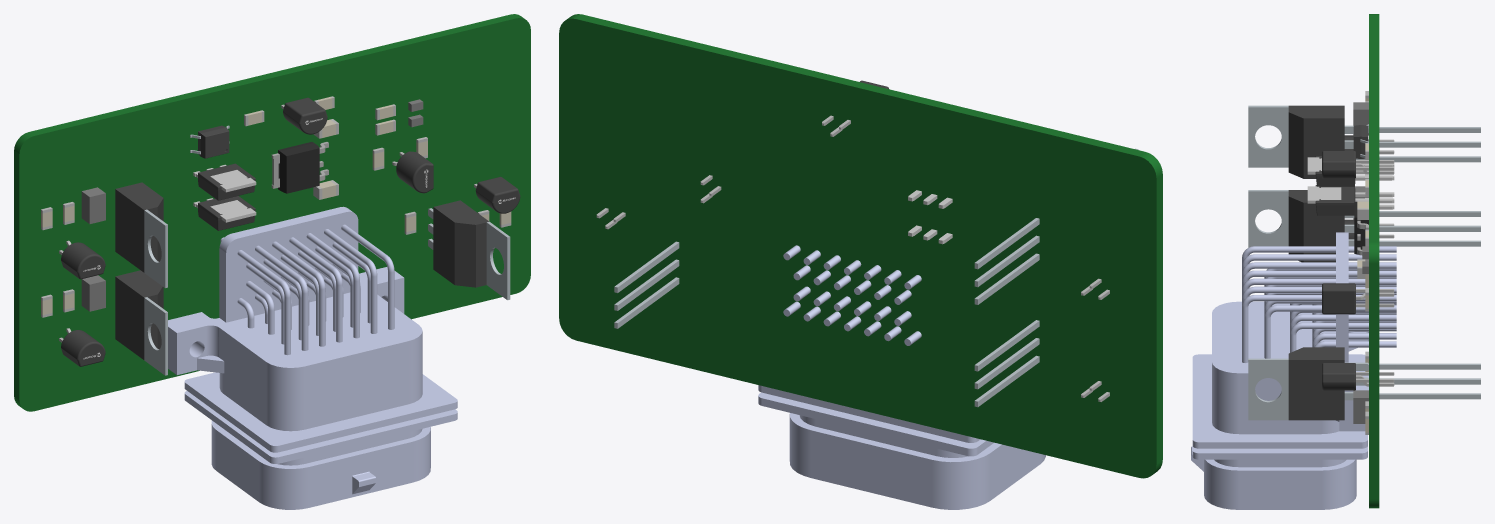
Rendered from relay_glb.glb.
3 views of the same model, side by side, from view 1: azimuth 30°, elevation 25°; view 2: azimuth 150°, elevation 25°; view 3: azimuth 270°, elevation 25° (orthographic). The views are drawn at different scales.
Visible parts, largest first — view 1: Board-Part-1-1, J1, IRF9Z34N-1/Body-1-1 (×3), Trans_Microchip_TN0702N3-G_eec-1/1-1 (×5), IRF9Z34N-1/Tab-1-1 (×3), L78M05ABDT-TR-1, Trans_Infineon_IPU80R3K3P7AKMA1_eec-1/Body-1 (×2), 8271834672-1/Extruded-3-1 (×2), Trans_Infineon_IPU80R3K3P7AKMA1_eec-1/Tab-1 (×2), VOM1271T-1/Body-2-1; view 2: Board-Part-1-1, J1; view 3: J1, IRF9Z34N-1/Body-1-1 (×3), IRF9Z34N-1/Tab-1-1 (×3), Board-Part-1-1, Trans_Microchip_TN0702N3-G_eec-1/1-1 (×3), IRF9Z34N-1/IRF9Z34N-subassembly-1-1/PinsArray-2-1 (×3), IRF9Z34N-1/IRF9Z34N-subassembly-1-1/PinsArray-1-1 (×3), IRF9Z34N-1/IRF9Z34N-subassembly-1-1/PinsArray-1 (×3), Trans_Infineon_IPU80R3K3P7AKMA1_eec-1/Body-1 (×2), 8271834672-1/Extruded-3-1 (×2), Trans_Infineon_IPU80R3K3P7AKMA1_eec-1/Tab-1, L78M05ABDT-TR-1 (+1 smaller).
Part boxes in pixels (x1,y1,x2,y2): Board-Part-1-1: (14, 14, 530, 411); J1: (168, 206, 457, 509); IRF9Z34N-1/Body-1-1 (×3): (115, 182, 488, 359); Trans_Microchip_TN0702N3-G_eec-1/1-1 (×5): (61, 97, 520, 366); IRF9Z34N-1/Tab-1-1 (×3): (144, 209, 510, 375); L78M05ABDT-TR-1: (271, 142, 328, 193); Trans_Infineon_IPU80R3K3P7AKMA1_eec-1/Body-1 (×2): (197, 163, 255, 230); 8271834672-1/Extruded-3-1 (×2): (81, 187, 105, 311); Trans_Infineon_IPU80R3K3P7AKMA1_eec-1/Tab-1 (×2): (210, 170, 256, 222); VOM1271T-1/Body-2-1: (198, 125, 229, 158); Board-Part-1-1: (559, 14, 1162, 478); J1: (758, 245, 1045, 509); J1: (1191, 232, 1396, 509); IRF9Z34N-1/Body-1-1 (×3): (1288, 105, 1344, 420); IRF9Z34N-1/Tab-1-1 (×3): (1248, 105, 1288, 420); Board-Part-1-1: (1369, 14, 1379, 508); Trans_Microchip_TN0702N3-G_eec-1/1-1 (×3): (1322, 151, 1355, 390); IRF9Z34N-1/IRF9Z34N-subassembly-1-1/PinsArray-2-1 (×3): (1345, 156, 1480, 370); IRF9Z34N-1/IRF9Z34N-subassembly-1-1/PinsArray-1-1 (×3): (1344, 140, 1480, 385); IRF9Z34N-1/IRF9Z34N-subassembly-1-1/PinsArray-1 (×3): (1344, 125, 1480, 400); Trans_Infineon_IPU80R3K3P7AKMA1_eec-1/Body-1 (×2): (1315, 156, 1355, 215); 8271834672-1/Extruded-3-1 (×2): (1353, 102, 1368, 423); Trans_Infineon_IPU80R3K3P7AKMA1_eec-1/Tab-1: (1307, 186, 1341, 203); L78M05ABDT-TR-1: (1354, 202, 1368, 255).
Size of the model in its own units: 0.0889 by 0.059 by 0.0453.
